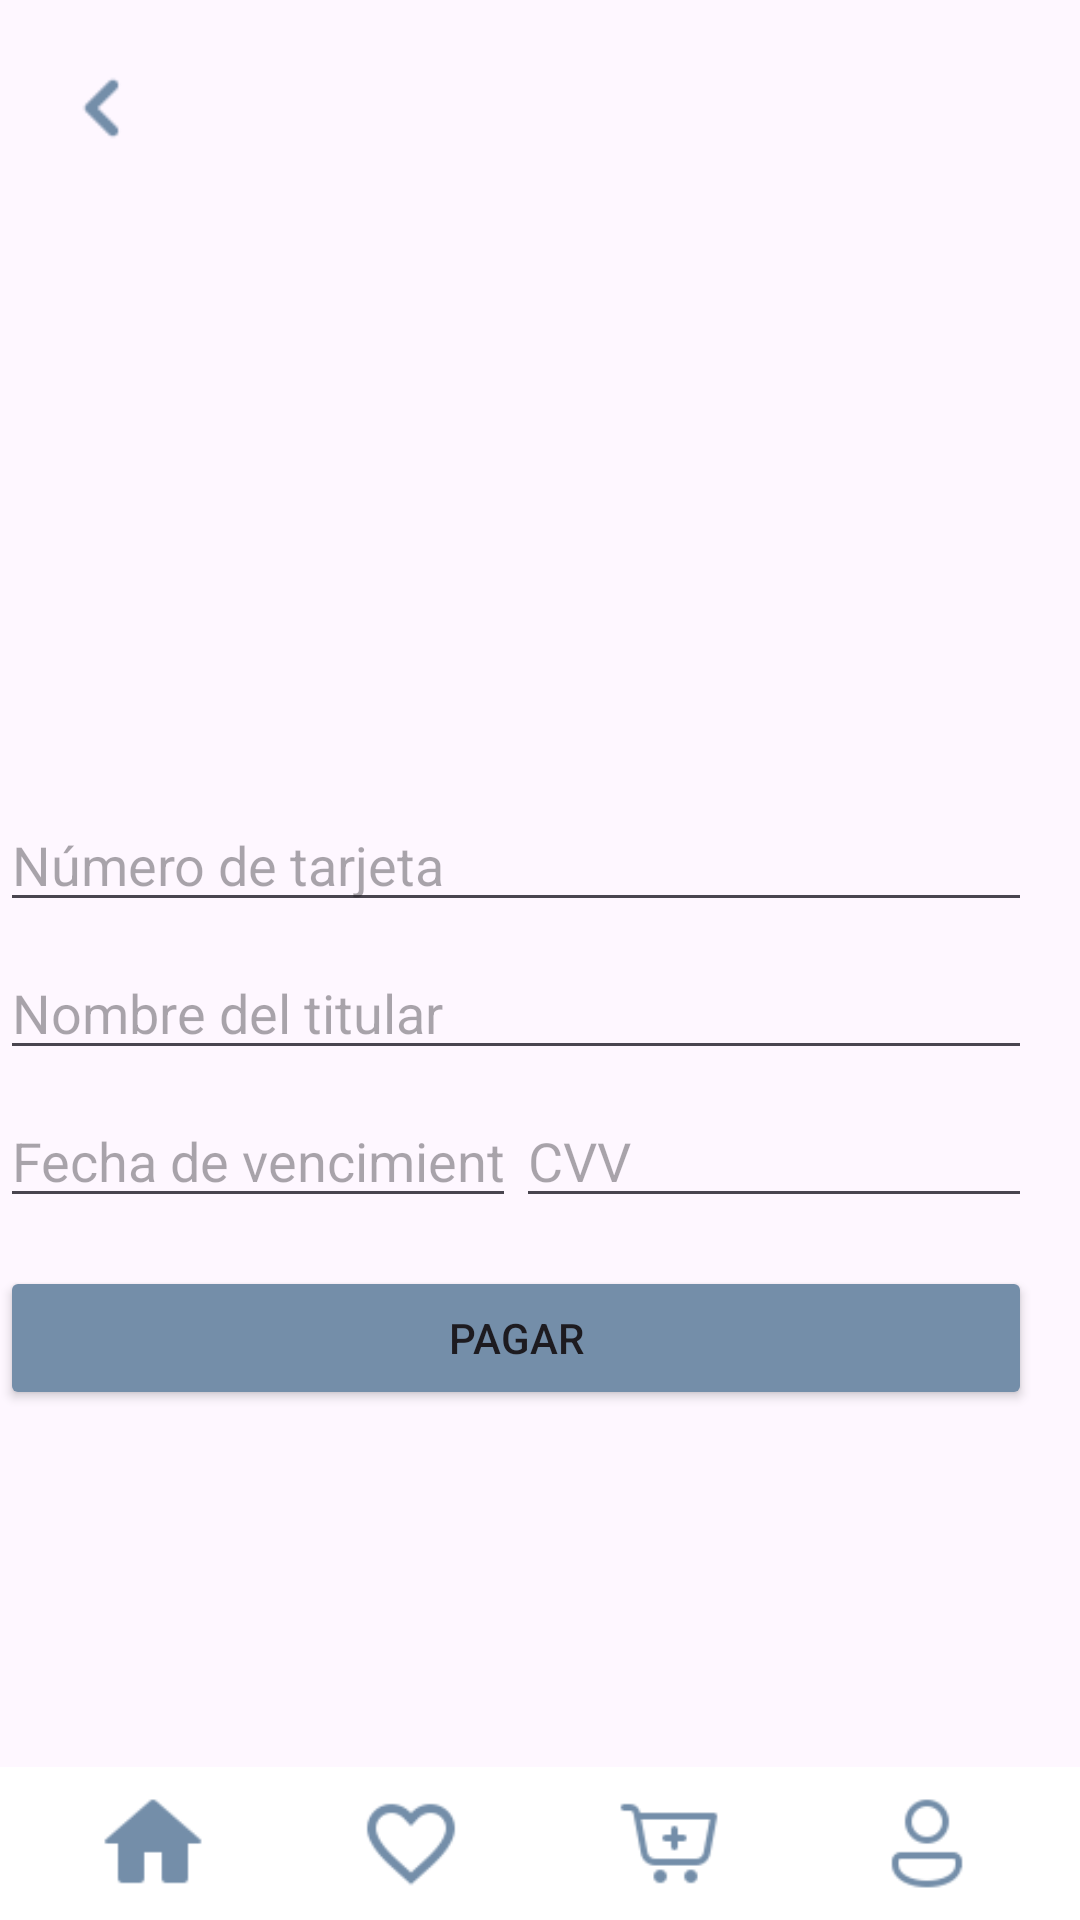

Icon bounding boxes for this 1080×1920 phone screenshot, format (x1, y1, x2, y2):
back: (84, 79, 119, 137)
Carrito: (620, 1803, 718, 1884)
Corazón: (367, 1803, 455, 1885)
Inicio: (104, 1799, 202, 1884)
Usuario: (891, 1799, 963, 1888)
